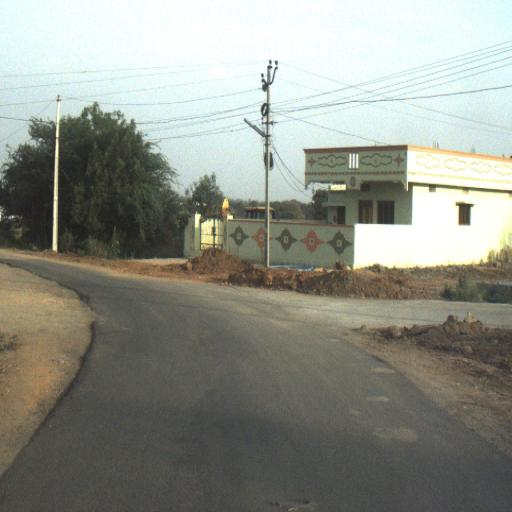street_light_0: (244, 116, 270, 148)
